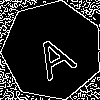A: (27, 25, 79, 81)
